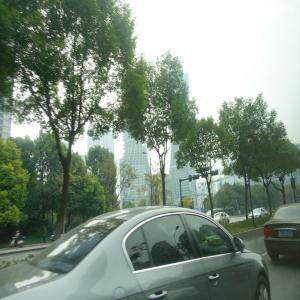Vehicle-registration-plate: (279, 231, 294, 237)
